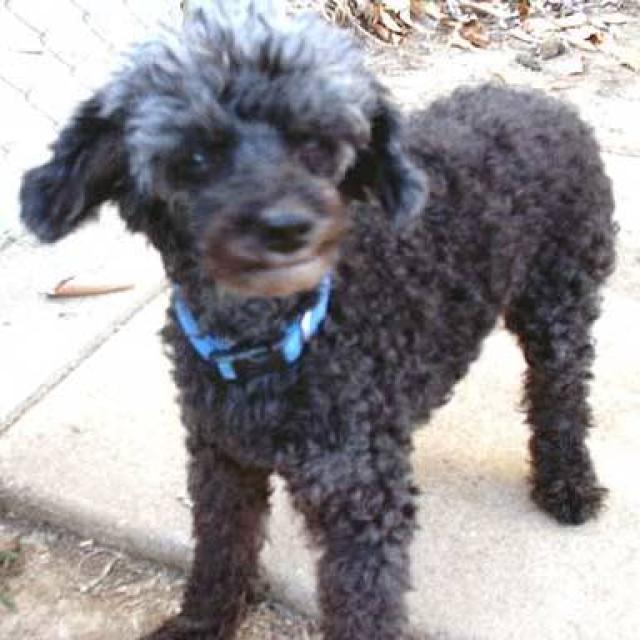dog: (16, 0, 620, 638)
